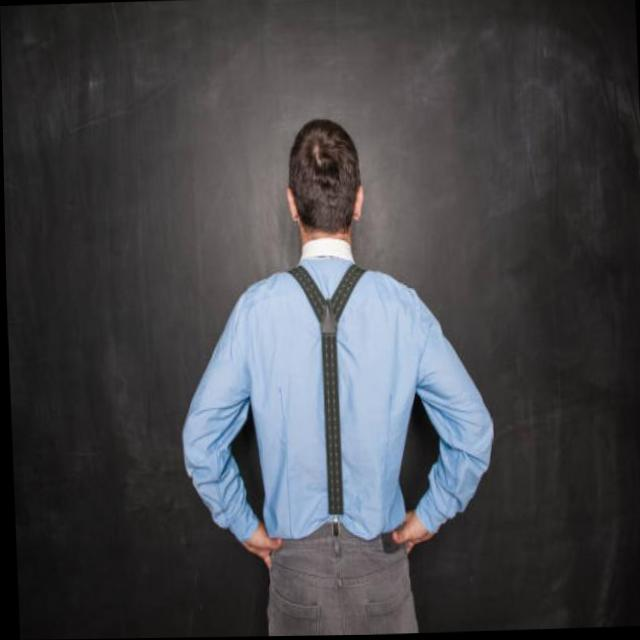no helmet: (285, 112, 364, 266)
